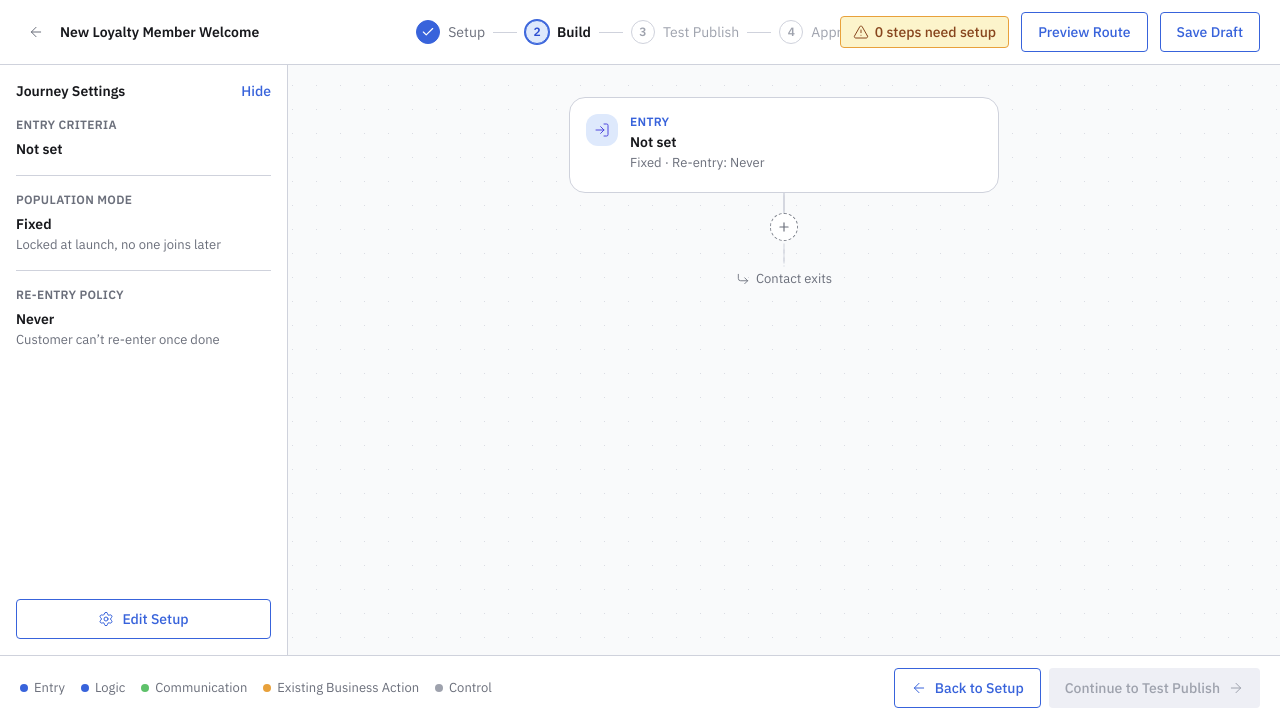
Test: Save Draft on a stale version reports the conflict instead of overwriting it
Click the button "Save Draft" at (1210, 32), box [1160, 12, 1260, 52]
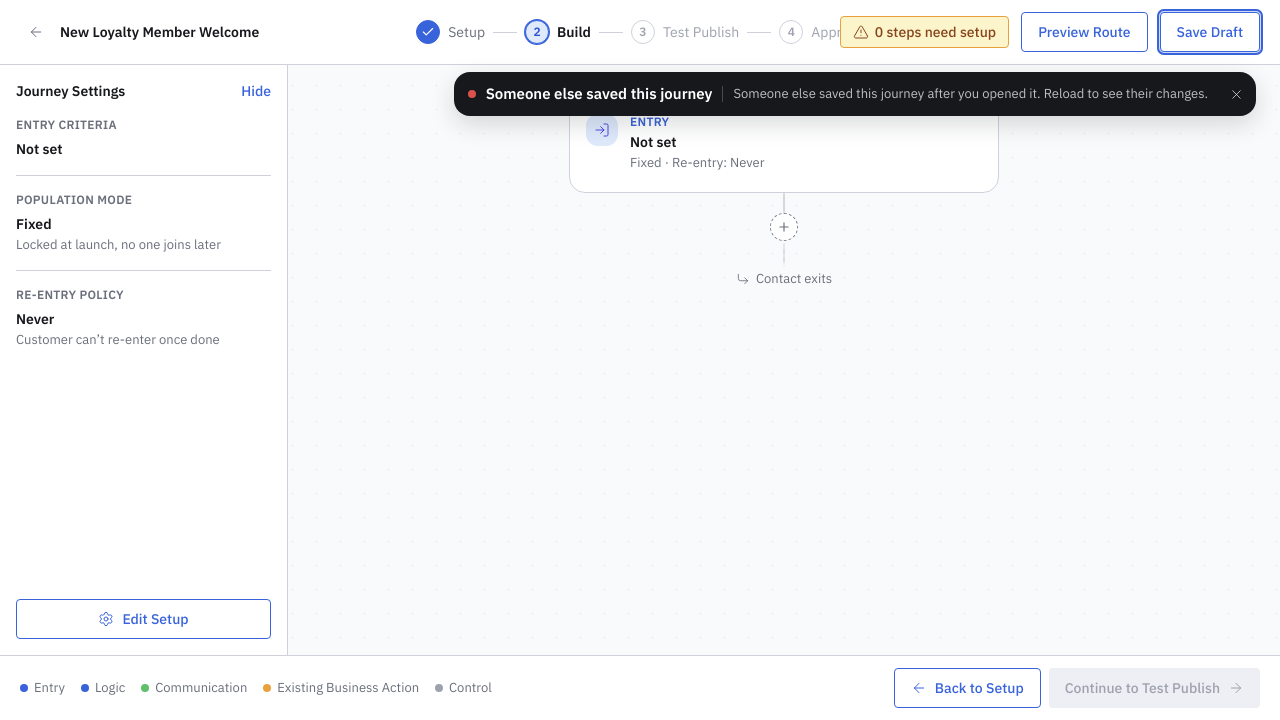
Expected: the text "Someone else saved this journey" is shown, [486, 83, 712, 105]
Expected: the text "Reload to see their changes" is shown, [734, 85, 1208, 102]
